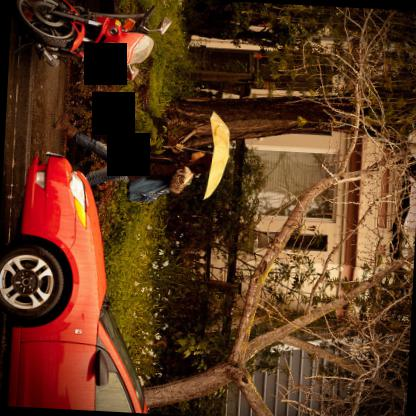backpack: (125, 174, 169, 203)
